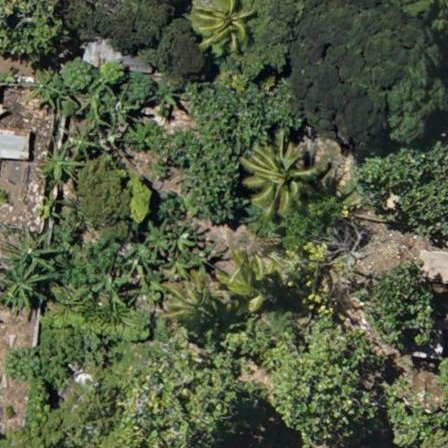palm_tree: (244, 140, 313, 213), (198, 0, 263, 51)
